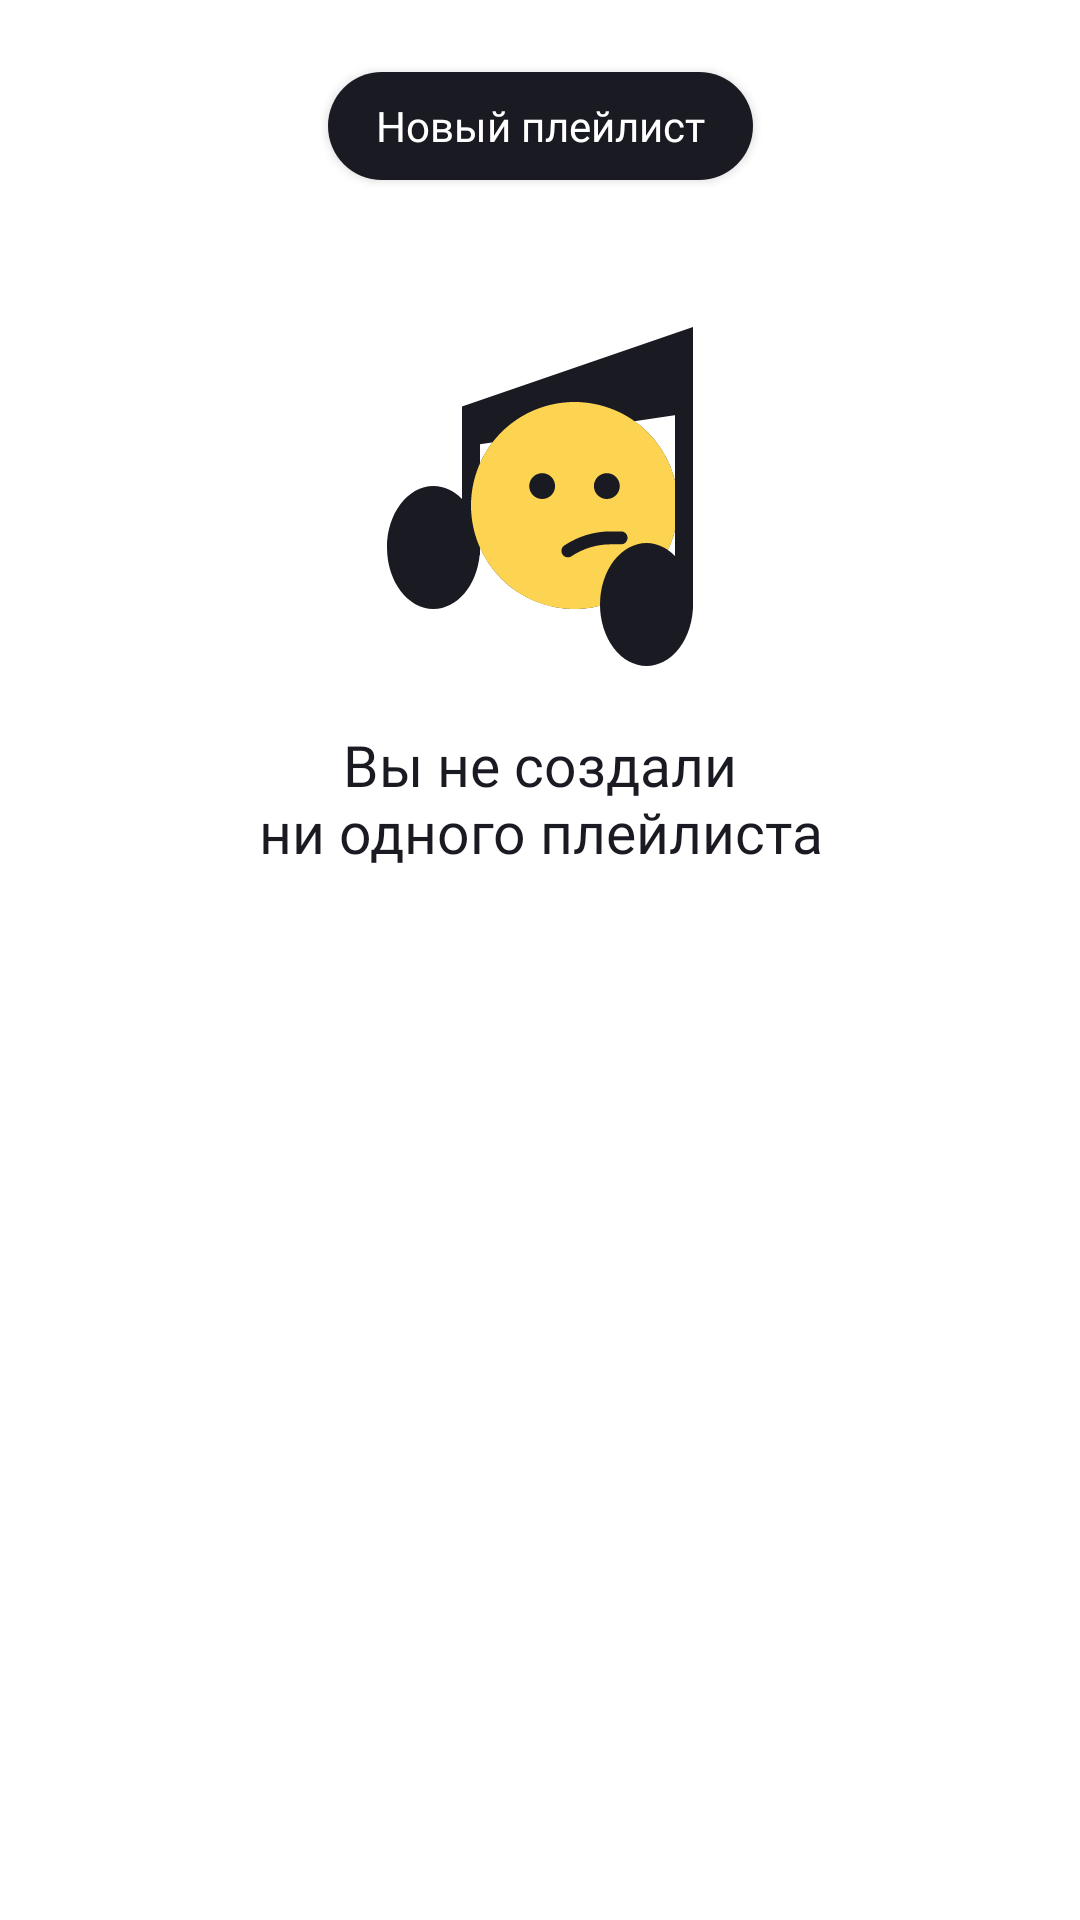

Icons on this 1080w x 1920h Android screen, each with the point to tap as point (x, y):
Пустая медиатека: point (540, 496)
